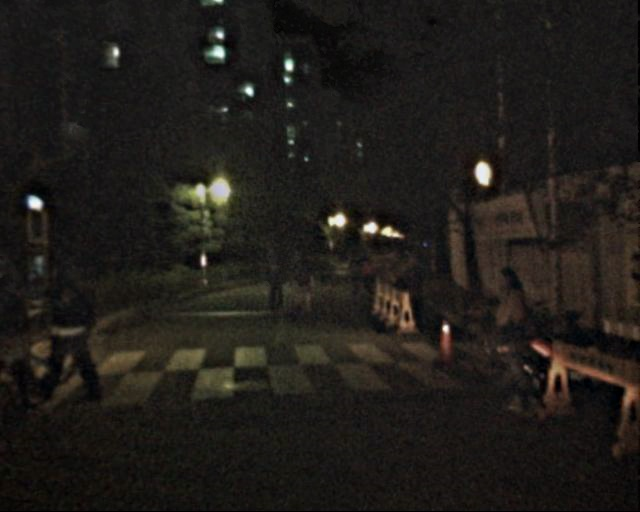person: (44, 248, 108, 403), (482, 269, 546, 424), (255, 243, 283, 312), (283, 246, 309, 310), (340, 246, 362, 300), (355, 247, 376, 297)
